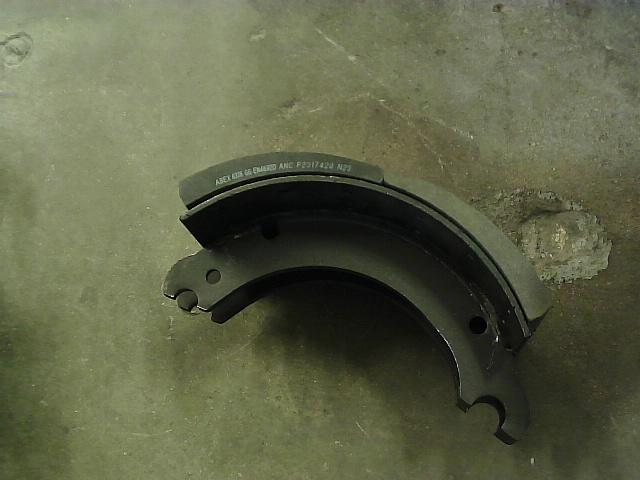brake-shoes: (162, 148, 550, 445)
